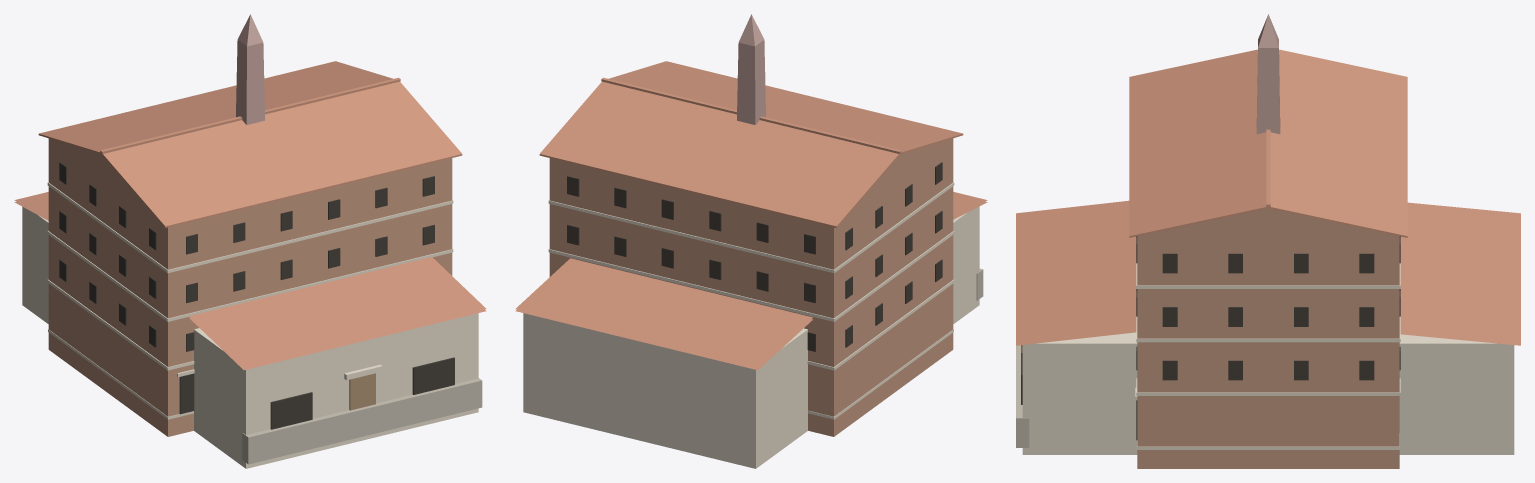
Rendered from atenas_modelos.glb.
The picture shows the model from 3 angles, left to right: view 1: azimuth 30°, elevation 25°; view 2: azimuth 150°, elevation 25°; view 3: azimuth 270°, elevation 25°; orthographic projection. The views are drawn at different scales.
Parts seen in each view (by area): view 1: H_insa_brick, H_insa_roof, H_dom_plaster, H_dom_roof, H_dom_socle, H_insa_dark, H_insa_plaster, B_obelisk, H_dom_dark, H_dom_wood; view 2: H_insa_brick, H_insa_roof, H_dom_plaster, H_dom_roof, H_insa_dark, H_insa_plaster, B_obelisk; view 3: H_insa_brick, H_insa_roof, H_dom_roof, H_dom_plaster, H_insa_plaster, H_insa_dark, B_obelisk, H_dom_socle.
Boxes of the visible parts, x1,y1,x2,y2 form: H_insa_brick: (48,138,452,436); H_insa_roof: (38,61,462,227); H_dom_plaster: (22,207,478,468); H_dom_roof: (14,192,486,370); H_dom_socle: (242,378,482,464); H_insa_dark: (59,162,434,414); H_insa_plaster: (47,182,453,419); B_obelisk: (236,14,264,124); H_dom_dark: (270,357,454,429); H_dom_wood: (349,373,375,410); H_insa_brick: (549,138,953,436); H_insa_roof: (539,61,963,227); H_dom_plaster: (523,206,979,468); H_dom_roof: (515,192,987,370); H_insa_dark: (567,162,942,351); H_insa_plaster: (548,182,954,419); B_obelisk: (737,14,765,124); H_insa_brick: (1137,208,1399,468); H_insa_roof: (1129,49,1407,237); H_dom_roof: (1016,200,1520,345); H_dom_plaster: (1022,332,1514,454); H_insa_plaster: (1135,263,1400,449); H_insa_dark: (1136,236,1400,440); B_obelisk: (1256,14,1280,134); H_dom_socle: (1016,345,1029,447).
Bounding box in the file's own units: 23.1 × 25.5 × 30.8.
